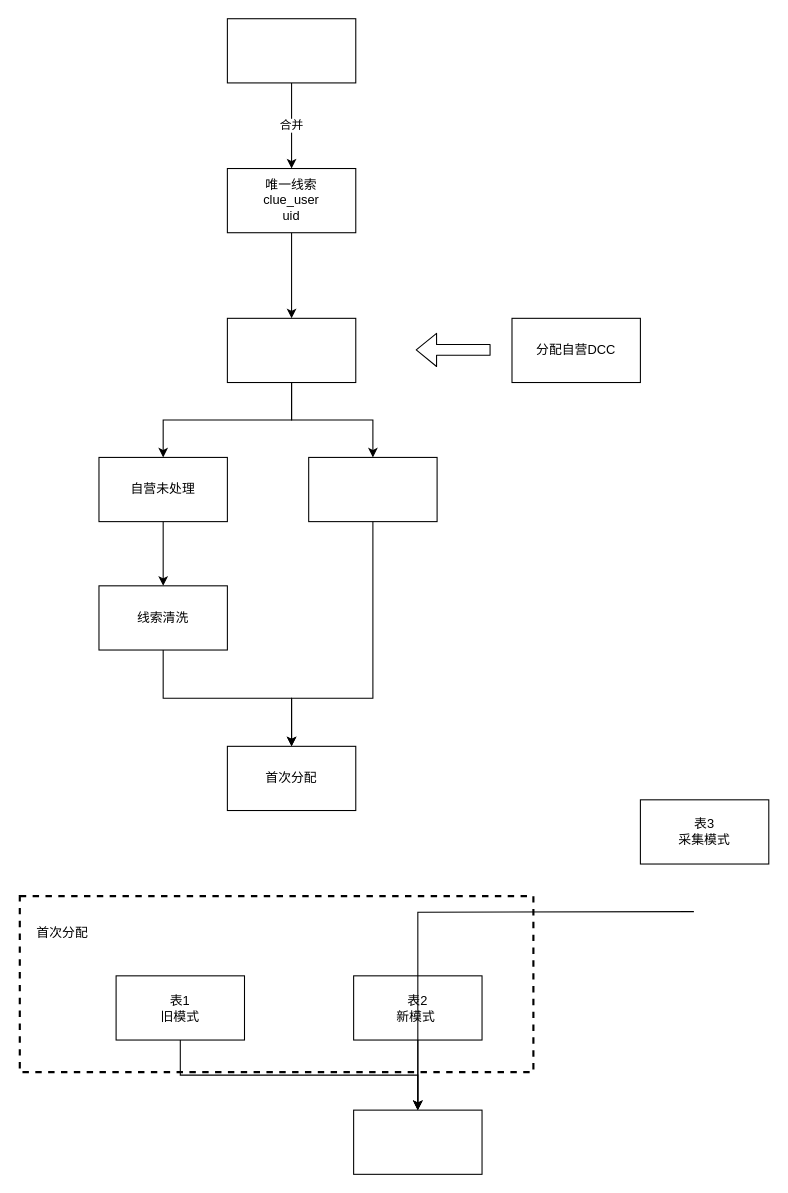
The diagram is 788 pixels wide and 1193 high, and some of its shapes have lost their labels. The centre of each missing label's shape, as x and y in pixels:
"分配DCC" goes at pixel 417 1141.
"留资线索 clue_phone clue_id" goes at pixel 291 50.
"自营已处理" goes at pixel 372 489.
"自营线索" goes at pixel 291 350.
